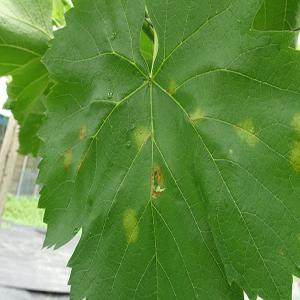Folha: (35, 0, 299, 299)
Fungo: (122, 206, 140, 244), (150, 164, 166, 200), (133, 126, 149, 148), (62, 147, 72, 168), (77, 124, 87, 142), (106, 90, 113, 99), (110, 30, 116, 40), (125, 138, 131, 148), (147, 76, 151, 86)
